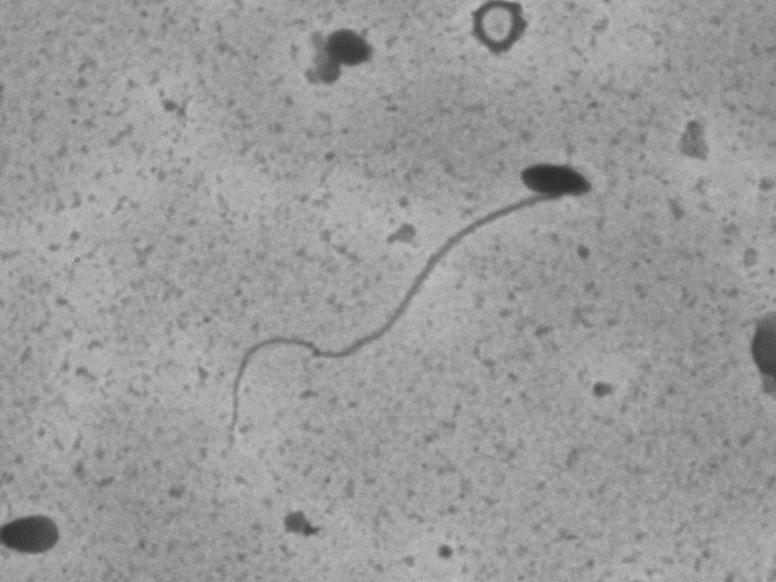Abnormal: (157, 152, 647, 421)
